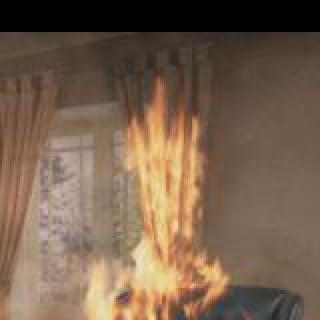fire: (0, 254, 300, 320), (108, 68, 216, 248)
